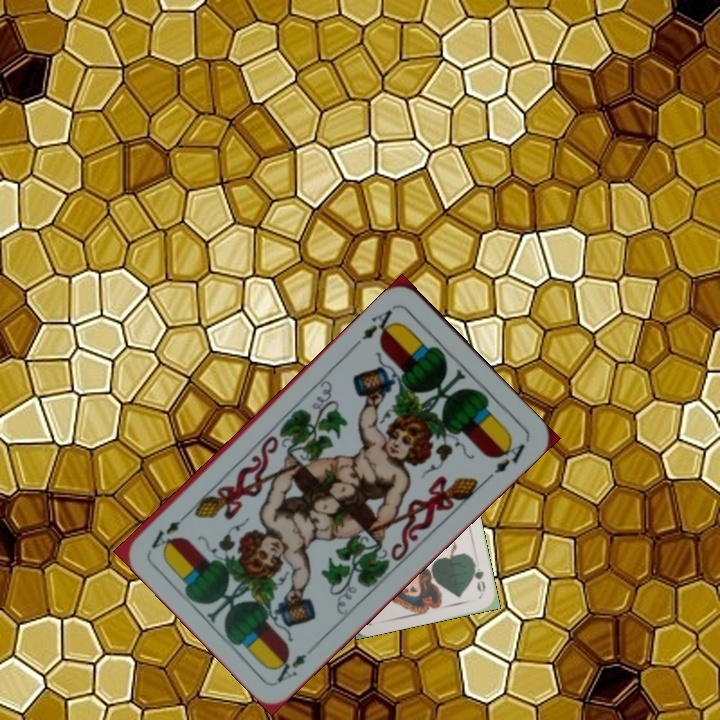EA: (351, 302, 399, 348), (270, 649, 311, 685)
GO: (468, 556, 488, 595)
